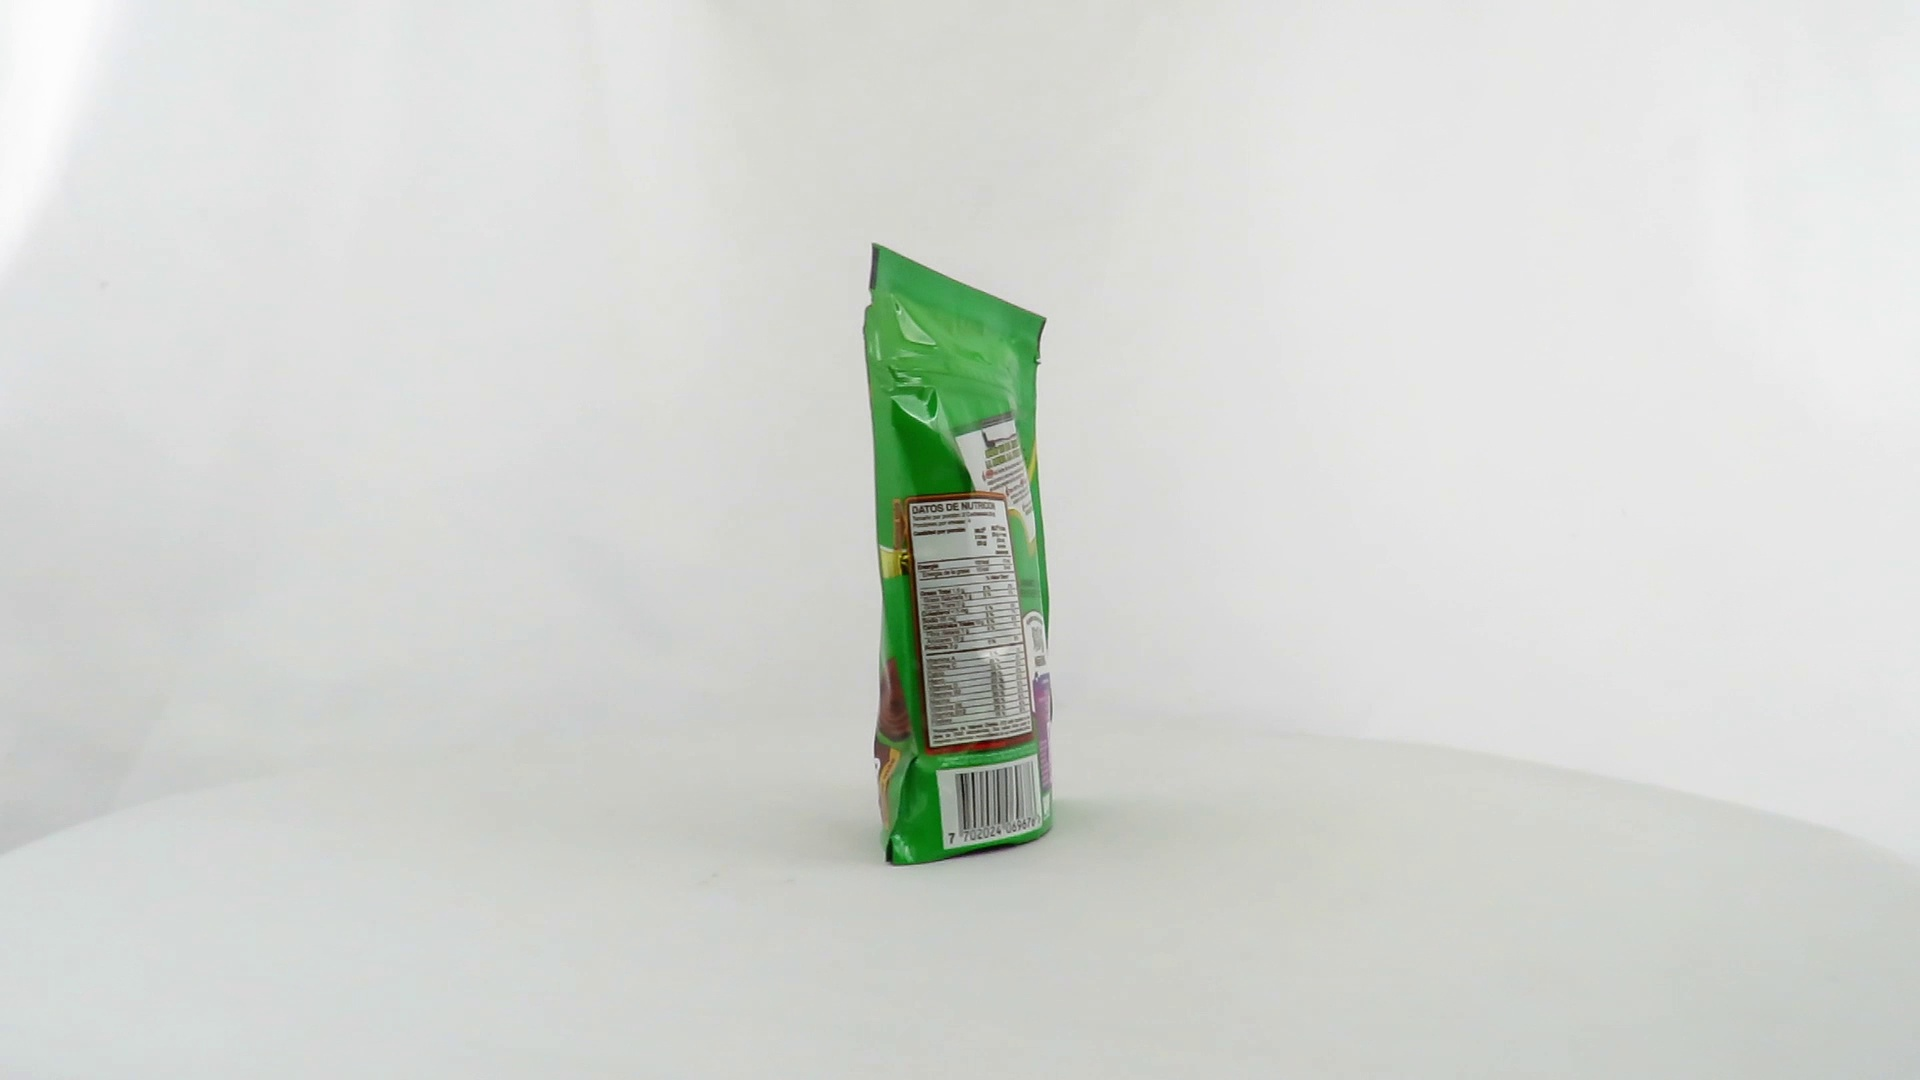COL0170203DYP10000: (852, 237, 1059, 873)
